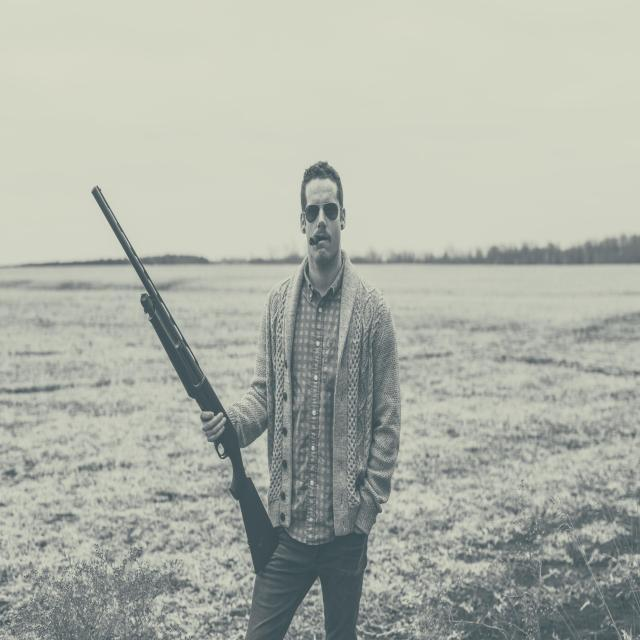weapon: (90, 182, 280, 576)
